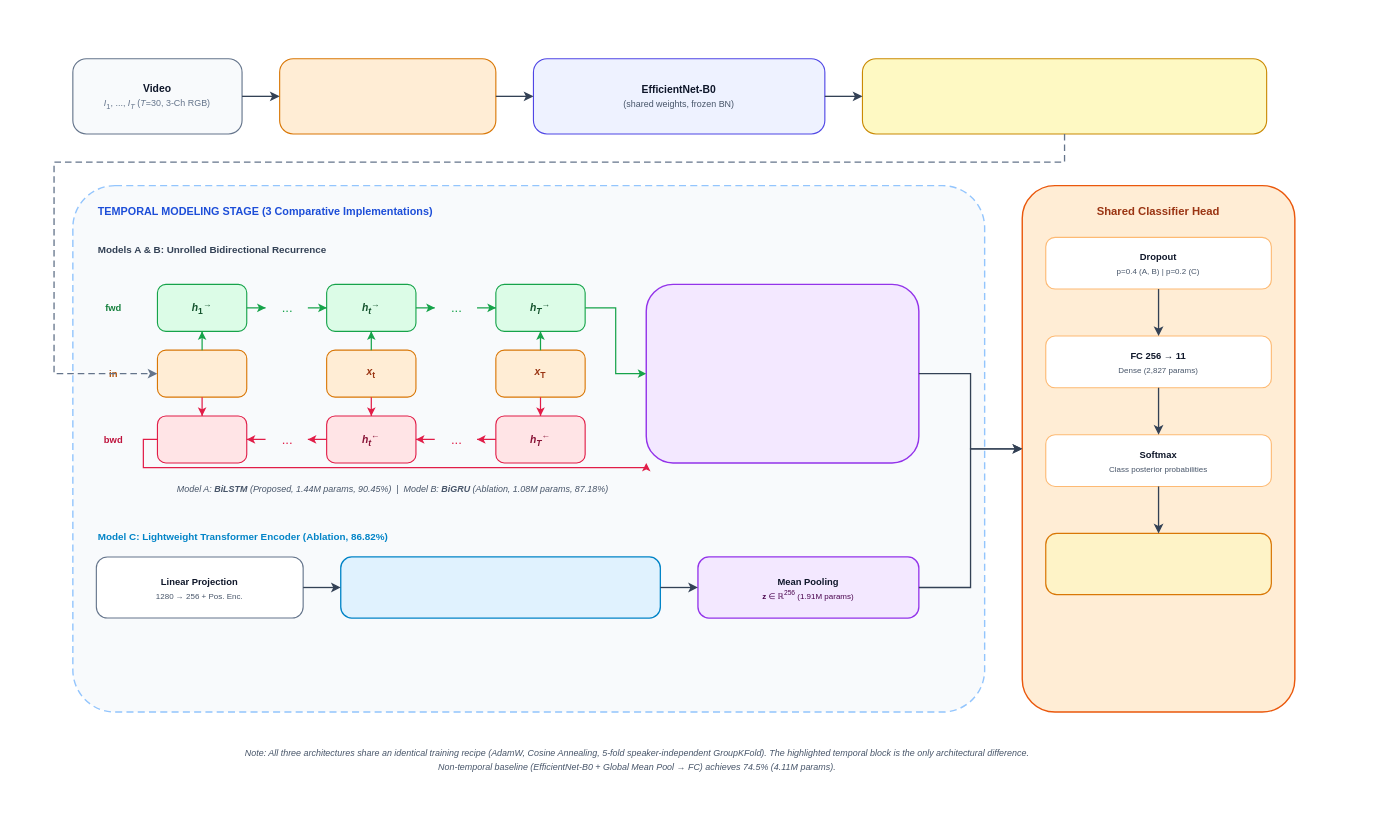
Some shapes in this 1386 by 840 pixel diagram are drawn without their labels. Here are the shapes that lost their labels. From the top down, the centre of each, then its label:
the point at 387,96: Dlib 68-Point Mouth ROI (128×128)
the point at 1064,96: X = [ x 1 , ..., x T ] Sequence: x t ∈ ℝ 1280 (GAP per frame)
the point at 201,373: x 1
the point at 782,373: concat [ h T → ; h 1 ← ] ∈ ℝ 256
the point at 201,439: h 1 ←
the point at 1158,563: 11 Tai Phake Digits d 0 (Pau) … d 10 (Sip)
the point at 500,587: Transformer Encoder ×2 d =256, 4 heads, FFN=1024, Pre-LN
